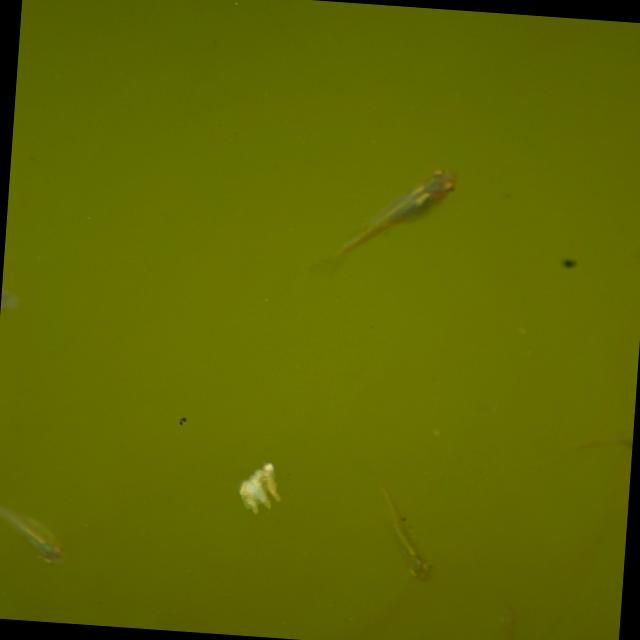Sivrisinek Baligi: (320, 150, 460, 283), (368, 483, 446, 588), (0, 486, 75, 575)
